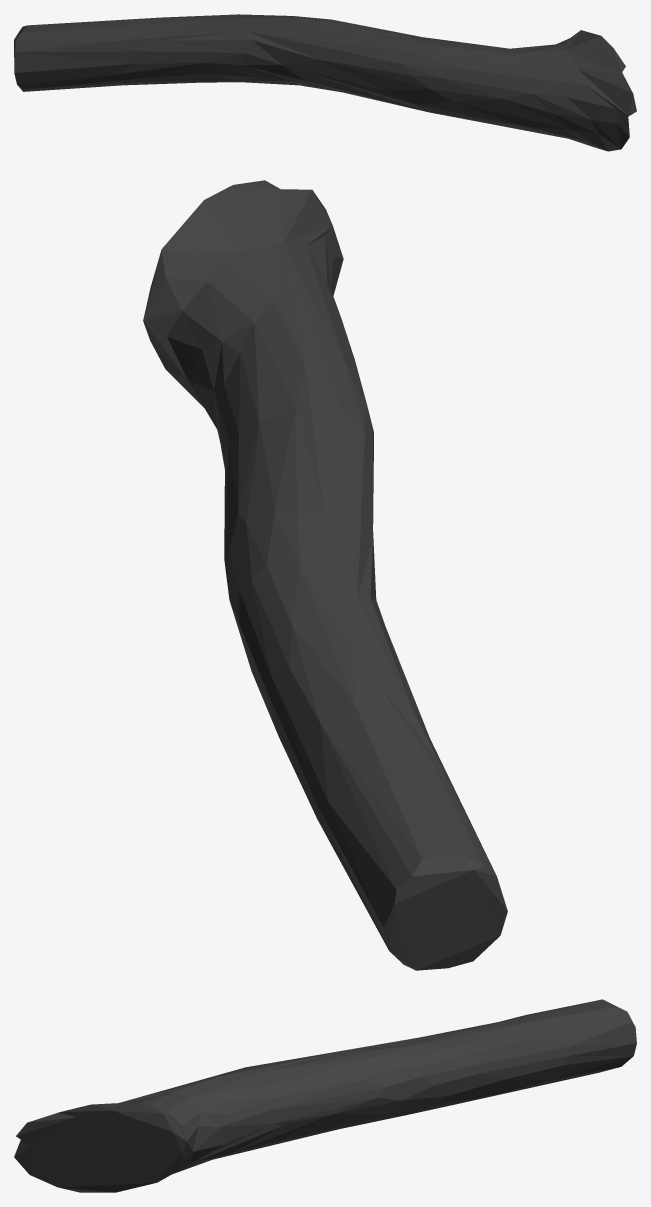
Rendered from Deep_circumflex_vv_R.glb.
The picture shows the model from 3 angles, top to bottom: view 1: azimuth 30°, elevation 25°; view 2: azimuth 150°, elevation 25°; view 3: azimuth 270°, elevation 25°; orthographic projection. The views are drawn at different scales.
Parts seen in each view (by area): view 1: Deep_circumflex_vv_R; view 2: Deep_circumflex_vv_R; view 3: Deep_circumflex_vv_R.
Boxes of the visible parts, x1,y1,x2,y2 form: Deep_circumflex_vv_R: (14, 14, 636, 151); Deep_circumflex_vv_R: (143, 180, 507, 970); Deep_circumflex_vv_R: (14, 999, 636, 1192).
Size of the model in its own units: 0.1542 by 0.0535 by 0.2091.
Materials: 1 (1 with a texture image).
